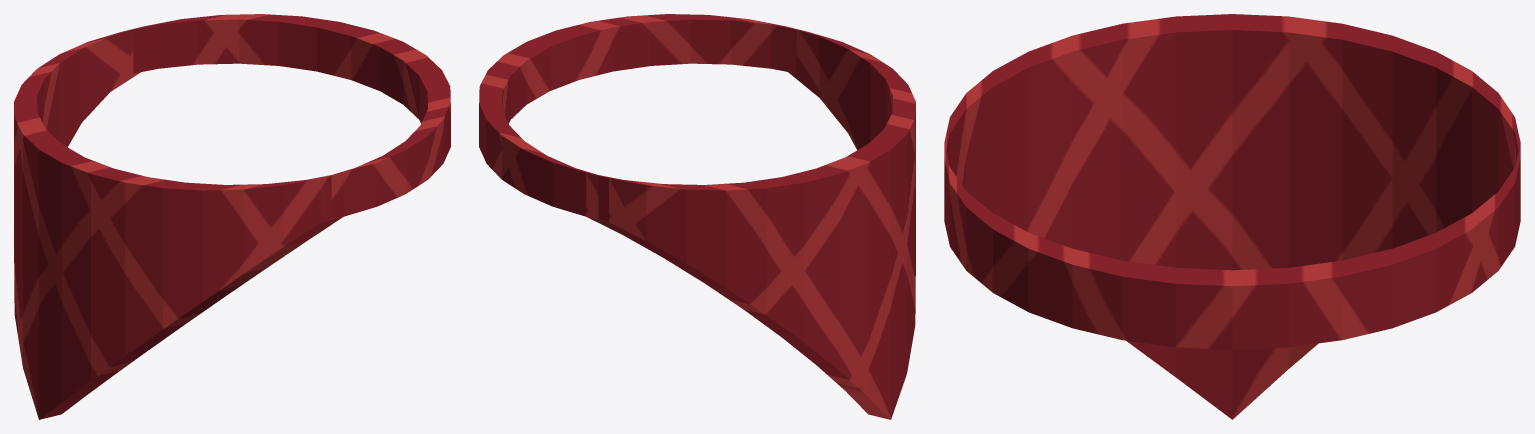
File: Bandana.fbx
3 renders of one model, left to right at view 1: azimuth 30°, elevation 25°; view 2: azimuth 150°, elevation 25°; view 3: azimuth 270°, elevation 25°, orthographic. The views are drawn at different scales.
Parts seen in each view (by area): view 1: Cylinder.001; view 2: Cylinder.001; view 3: Cylinder.001.
Boxes of the visible parts, bbox=[...] form: Cylinder.001: bbox=[14, 14, 450, 419]; Cylinder.001: bbox=[479, 14, 915, 419]; Cylinder.001: bbox=[944, 14, 1520, 419].
Size of the model in its own units: 230 by 153 by 205.
1 material, 1 textured.
